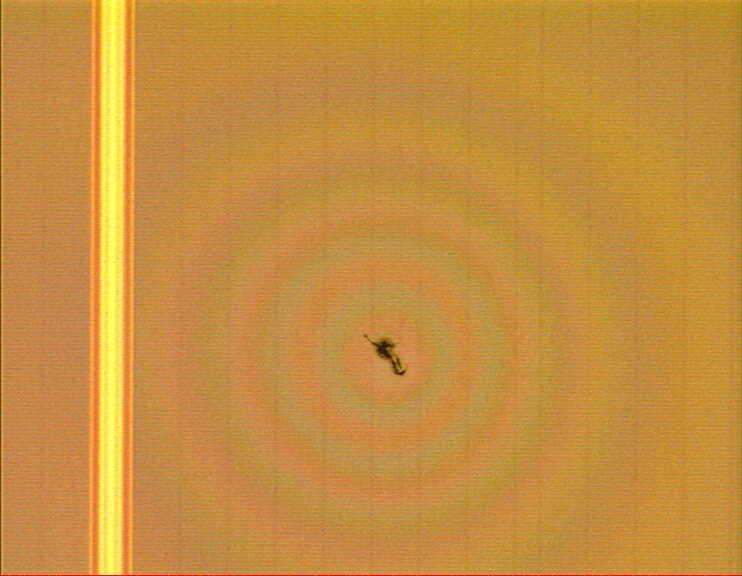PIQ PARTICLE: (360, 329, 411, 379)
